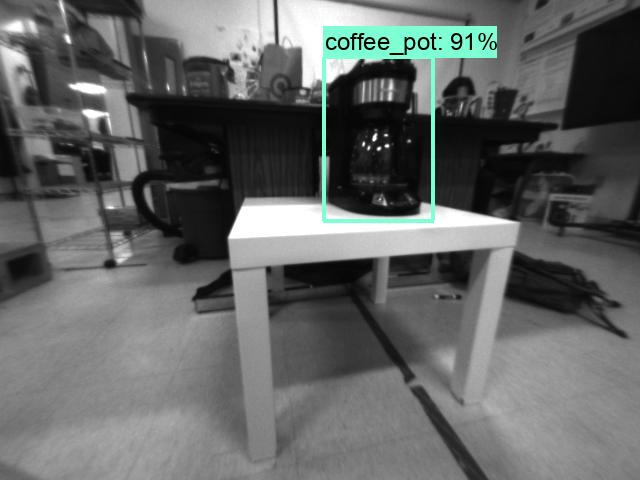coffee_pot: (319, 58, 430, 217)
